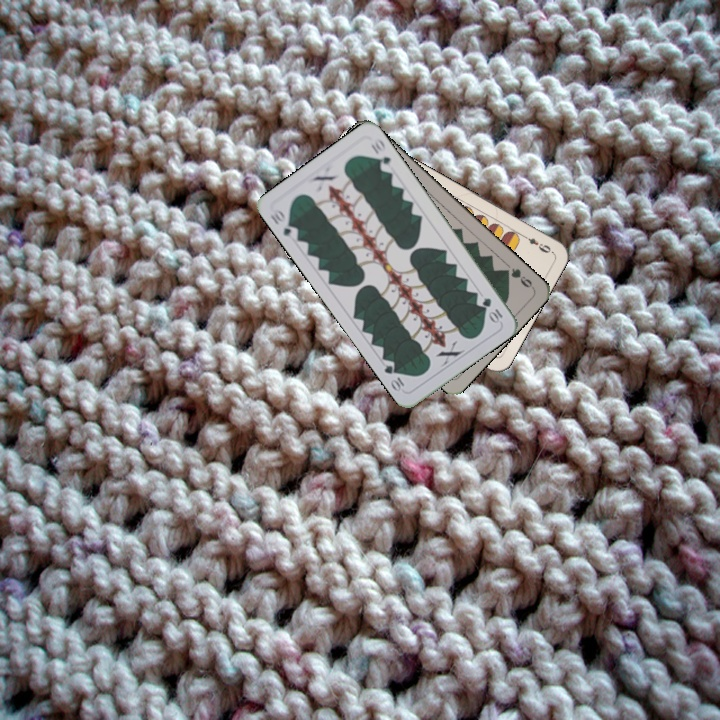E9: (518, 230, 555, 256)
G10: (266, 204, 301, 243), (478, 294, 505, 326)
G9: (499, 264, 536, 291)
